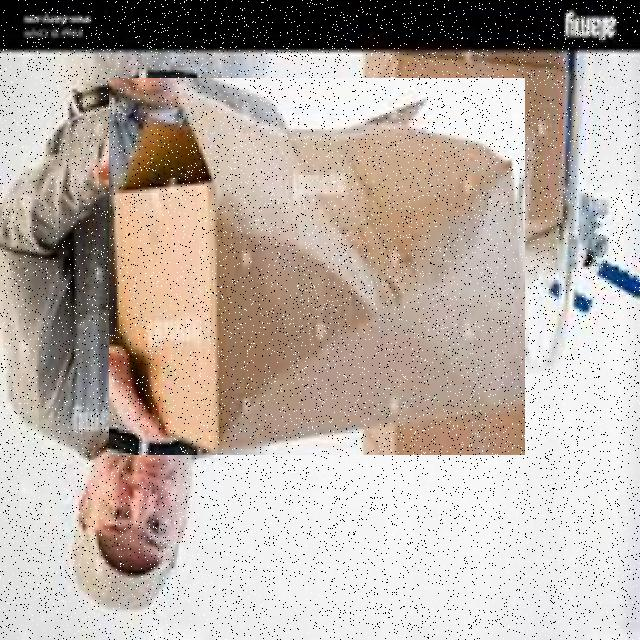defect: (109, 77, 525, 454)
